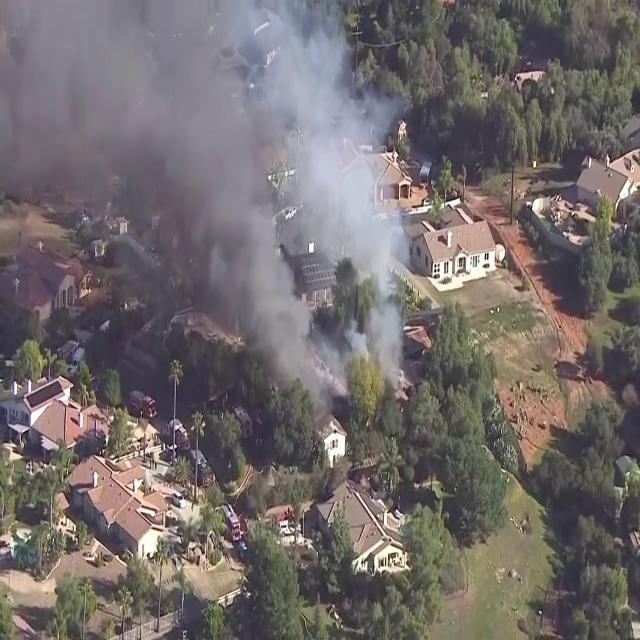Smoke: (1, 0, 414, 420)
